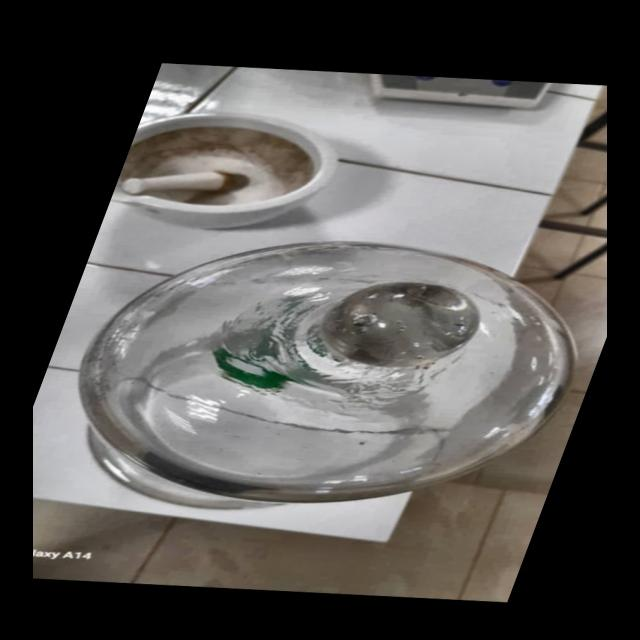Gas Bottle: (33, 234, 607, 530)
